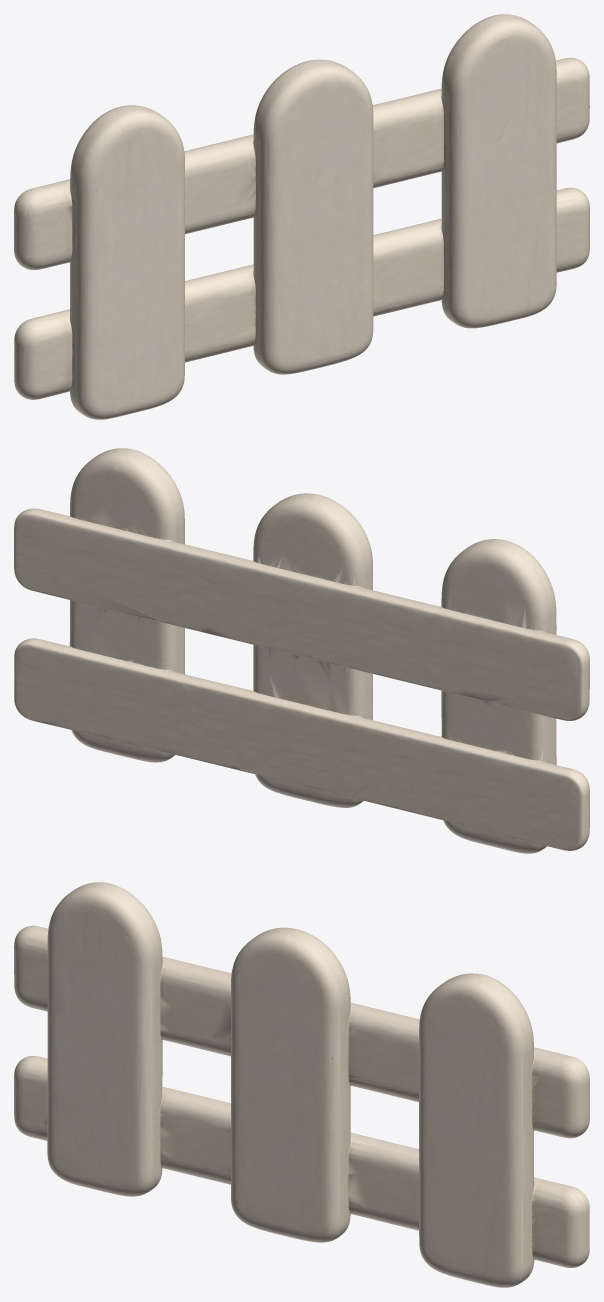
File: fence-low.glb
3 renders of one model, top to bottom at view 1: azimuth 30°, elevation 25°; view 2: azimuth 150°, elevation 25°; view 3: azimuth 330°, elevation 25°, orthographic.
Parts seen in each view (by area): view 1: Mesh_0; view 2: Mesh_0; view 3: Mesh_0.
Boxes of the visible parts, <box> form: Mesh_0: <box>14,14,589,419</box>; Mesh_0: <box>14,448,589,853</box>; Mesh_0: <box>14,882,589,1287</box>.
Size of the model in its own units: 1.9 by 0.9592 by 0.1484.
1 material, 1 textured.
